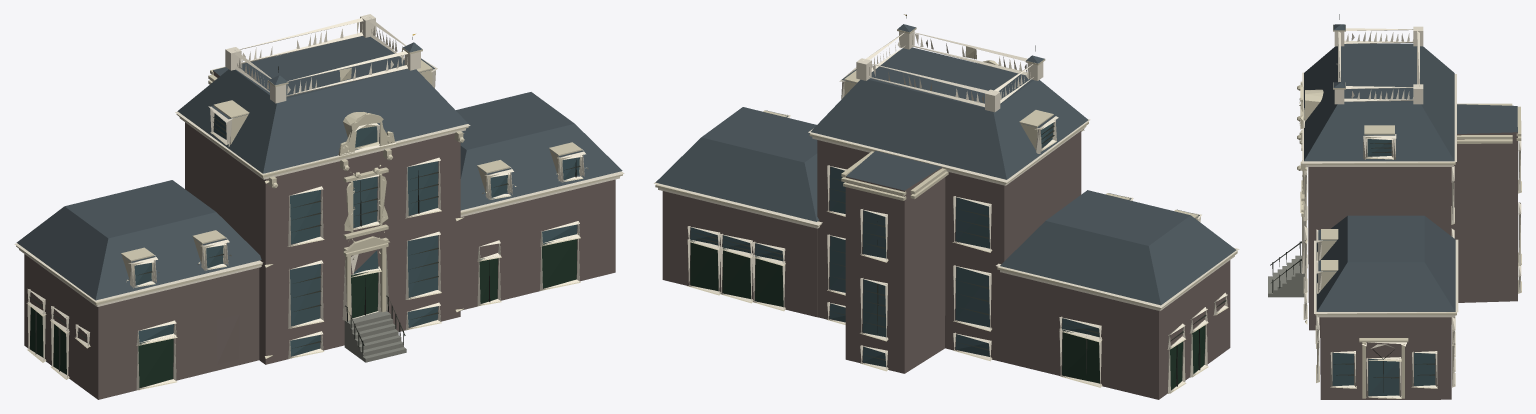
Rendered from huize-frankendael.lod1.glb.
3 renders of one model, left to right at view 1: azimuth 30°, elevation 25°; view 2: azimuth 150°, elevation 25°; view 3: azimuth 270°, elevation 25°, orthographic. The views are drawn at different scales.
Parts seen in each view (by area): view 1: huize-frankendael; view 2: huize-frankendael; view 3: huize-frankendael.
Boxes of the visible parts, x1,y1,x2,y2 form: huize-frankendael: (14, 14, 624, 399); huize-frankendael: (654, 14, 1239, 399); huize-frankendael: (1268, 14, 1521, 399).
Bounding box in the file's own units: 33.23 × 16.63 × 15.59.
